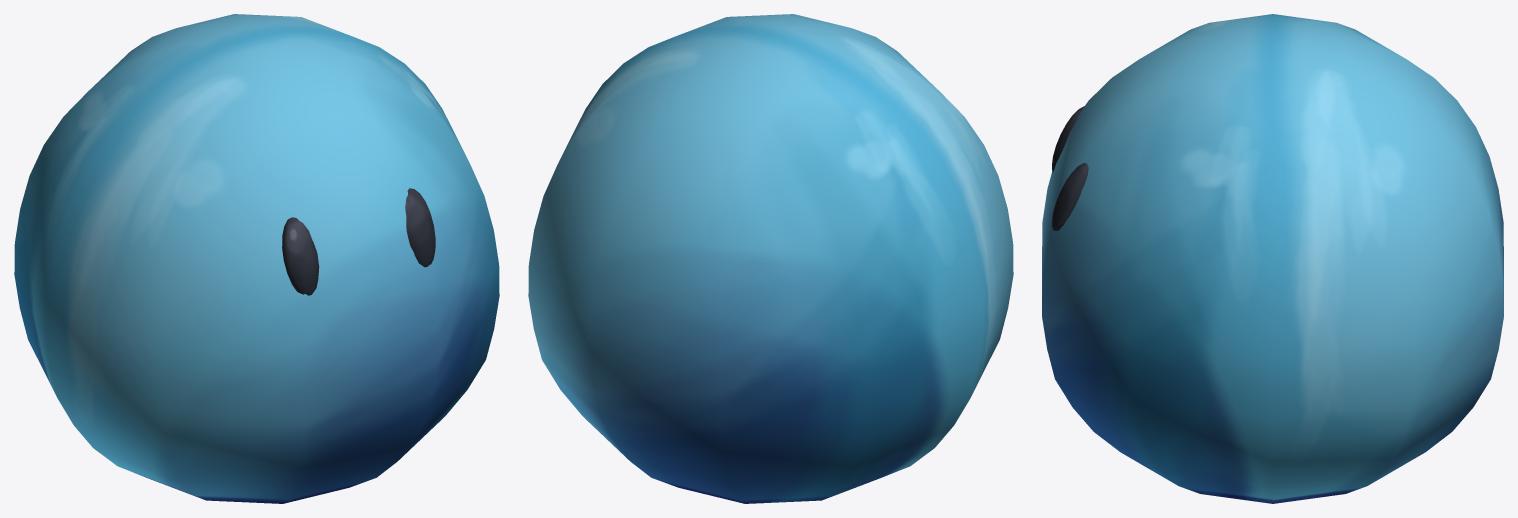
The model's file is slime.fbx.
3 views of the same model, side by side, from view 1: azimuth 30°, elevation 25°; view 2: azimuth 150°, elevation 25°; view 3: azimuth 270°, elevation 25° (orthographic).
Parts seen in each view (by area): view 1: pSphere4; view 2: pSphere4; view 3: pSphere4.
Part boxes in pixels (x1,y1,x2,y2): pSphere4: (14, 14, 499, 503); pSphere4: (528, 14, 1013, 503); pSphere4: (1042, 14, 1503, 503).
Bounding box in the file's own units: 101 × 101 × 96.18.
